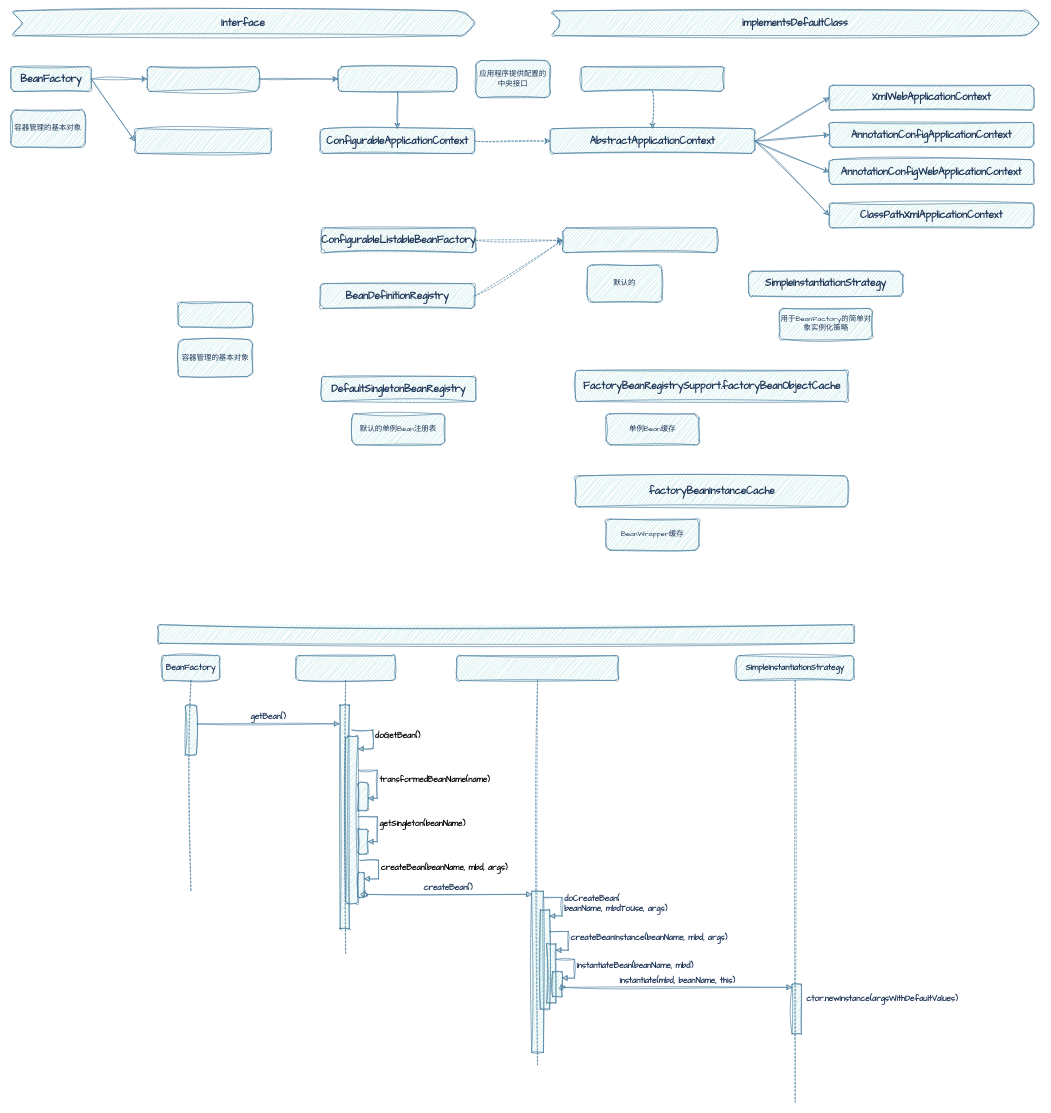
Some shapes in this 1051 by 1113 pixel diagram are drawn without their labels. The box of each missing label's shape, as (x1, y1, x2, y2) in pixels:
AbstractAutowireCapableBeanFactory: (456, 655, 618, 1065)
AbstractBeanFactory: (295, 655, 395, 953)
ApplicationContext: (338, 66, 457, 91)
Bean: (178, 302, 253, 327)
DefaultListableBeanFactory: (562, 227, 717, 253)
DefaultResourceLoader: (581, 66, 724, 91)
HierarchicalBeanFactory: (134, 128, 271, 153)
ListableBeanFactory: (147, 66, 259, 91)
实例化 instantiation: (157, 624, 854, 643)
